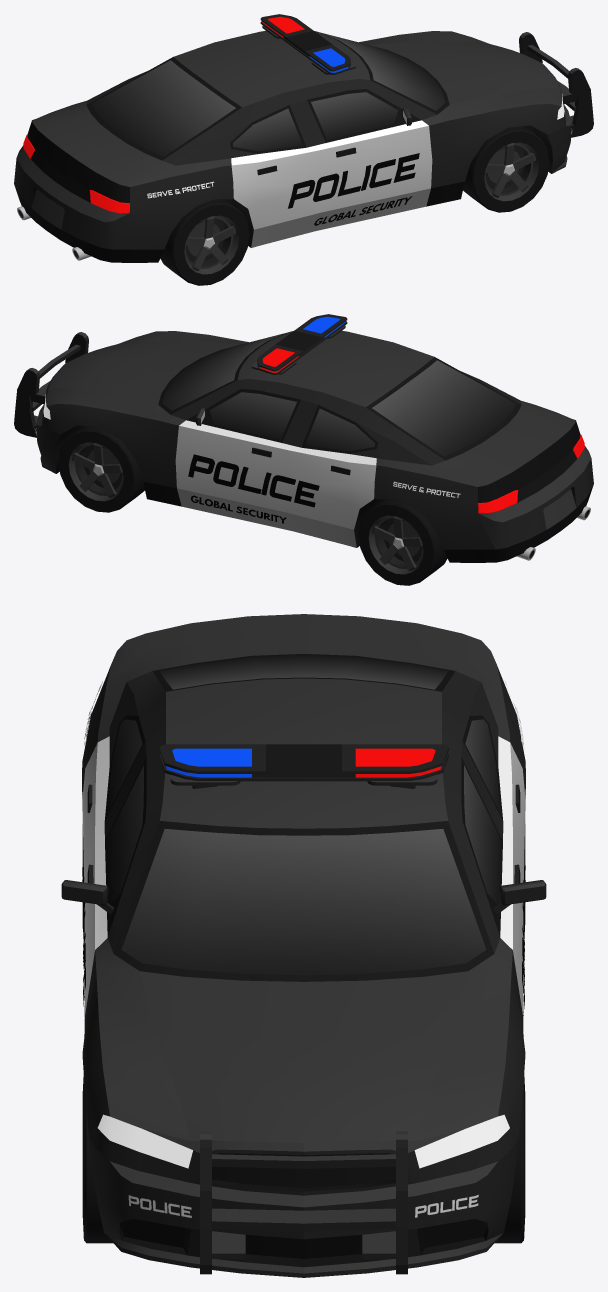
The model's file is Emergency_024.glb.
3 renders of one model, top to bottom at view 1: azimuth 30°, elevation 25°; view 2: azimuth 150°, elevation 25°; view 3: azimuth 270°, elevation 25°, orthographic. The views are drawn at different scales.
Parts seen in each view (by area): view 1: Emergency_024, wheel_3_Emergency_024_Wheel_2R, wheel_1_Emergency_024_Wheel_1R; view 2: Emergency_024, wheel_2_Emergency_024_Wheel_2L, wheel_0_Emergency_024_Wheel_1L; view 3: Emergency_024, wheel_0_Emergency_024_Wheel_1L, wheel_1_Emergency_024_Wheel_1R.
Boxes of the visible parts, x1,y1,x2,y2 form: Emergency_024: (14,14,593,262); wheel_3_Emergency_024_Wheel_2R: (160,199,249,285); wheel_1_Emergency_024_Wheel_1R: (463,126,549,212); Emergency_024: (14,314,593,562); wheel_2_Emergency_024_Wheel_2L: (358,499,447,585); wheel_0_Emergency_024_Wheel_1L: (58,426,144,512); Emergency_024: (61,614,546,1277); wheel_0_Emergency_024_Wheel_1L: (495,1075,525,1243); wheel_1_Emergency_024_Wheel_1R: (82,1075,112,1243).
Size of the model in its own units: 5.05 by 1.54 by 2.02.
Materials: 3 (3 with a texture image).
